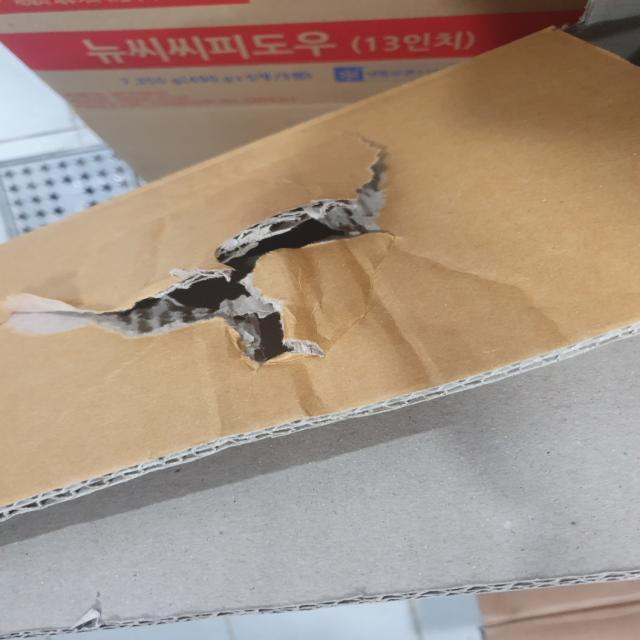hole: (103, 193, 349, 401)
